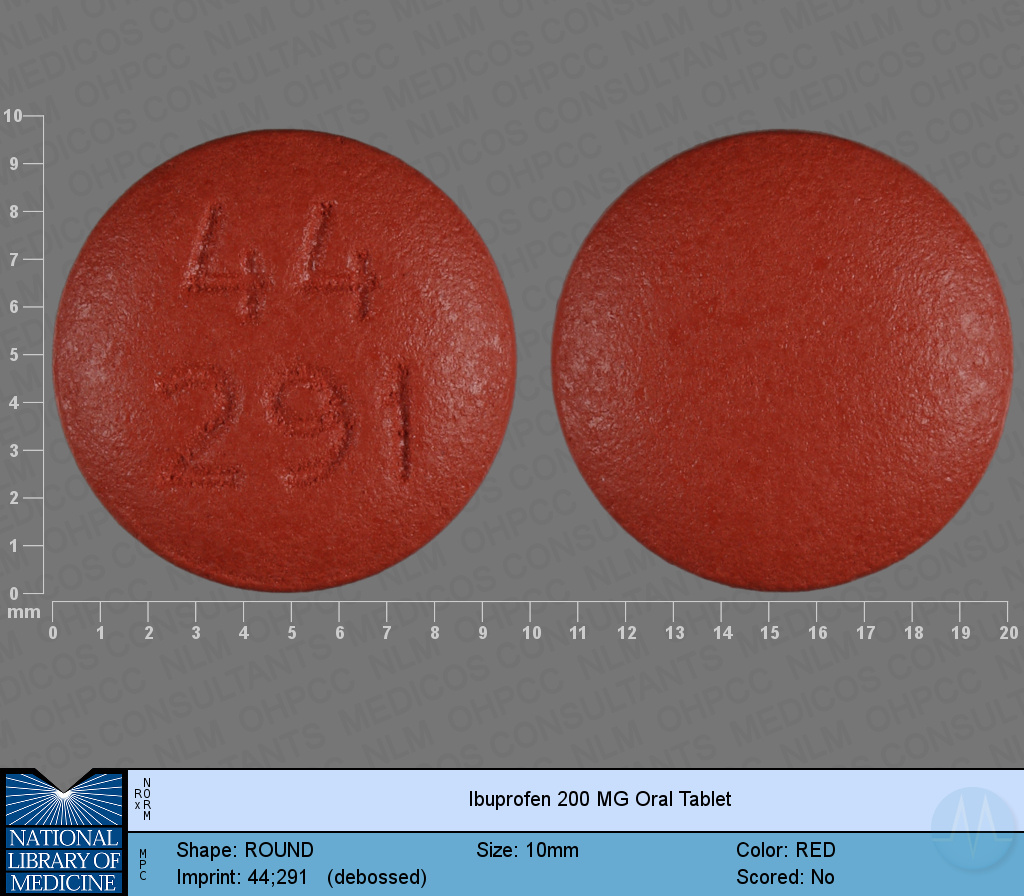Ibuprofen 200 MG Oral Tablet: (543, 123, 1024, 597), (49, 123, 526, 595)
